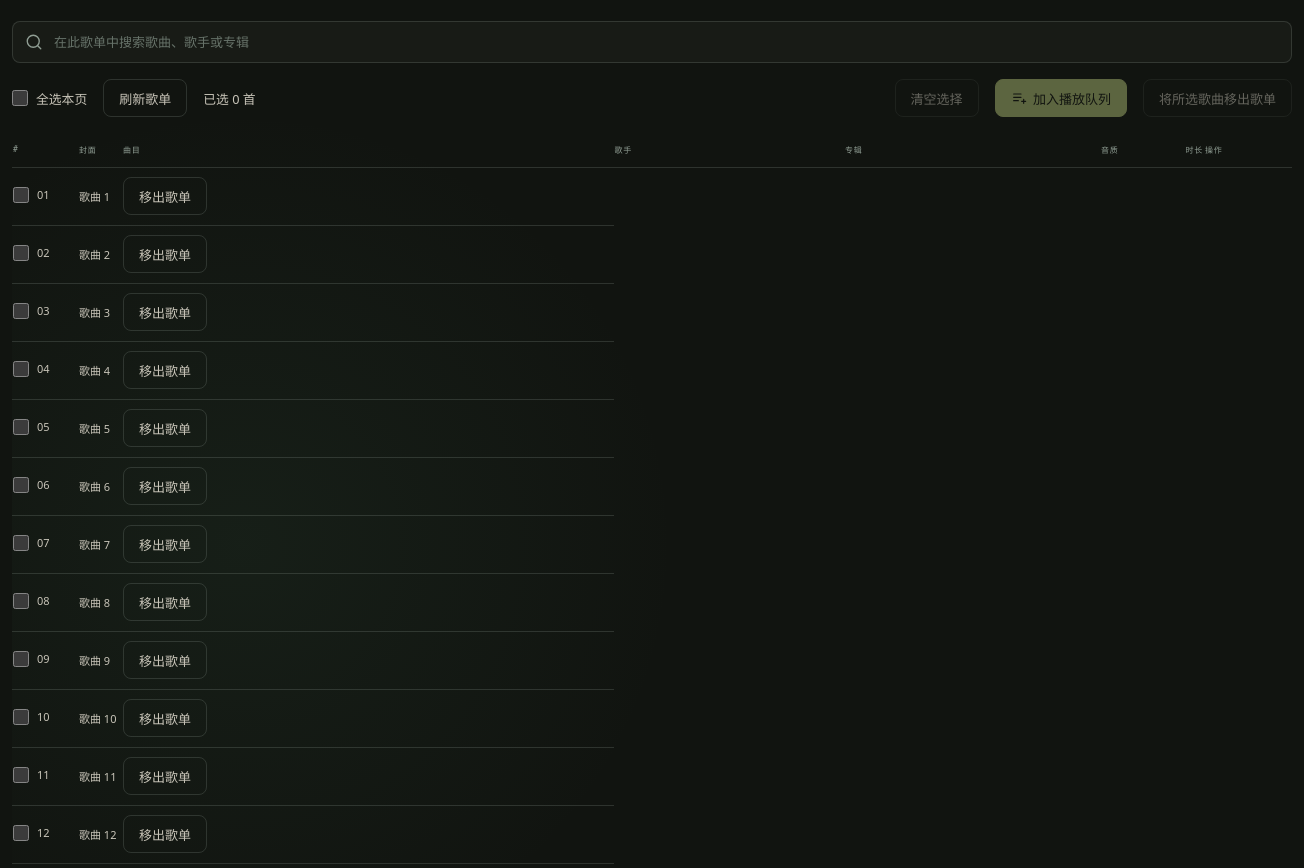
Test: playlist search and bulk queue selection › 确认前账号发生变化时不向新账号提交旧选择
Click the button with aria-label "将《歌曲 1》移出歌单" at point(165, 196), box [123,177,207,215]
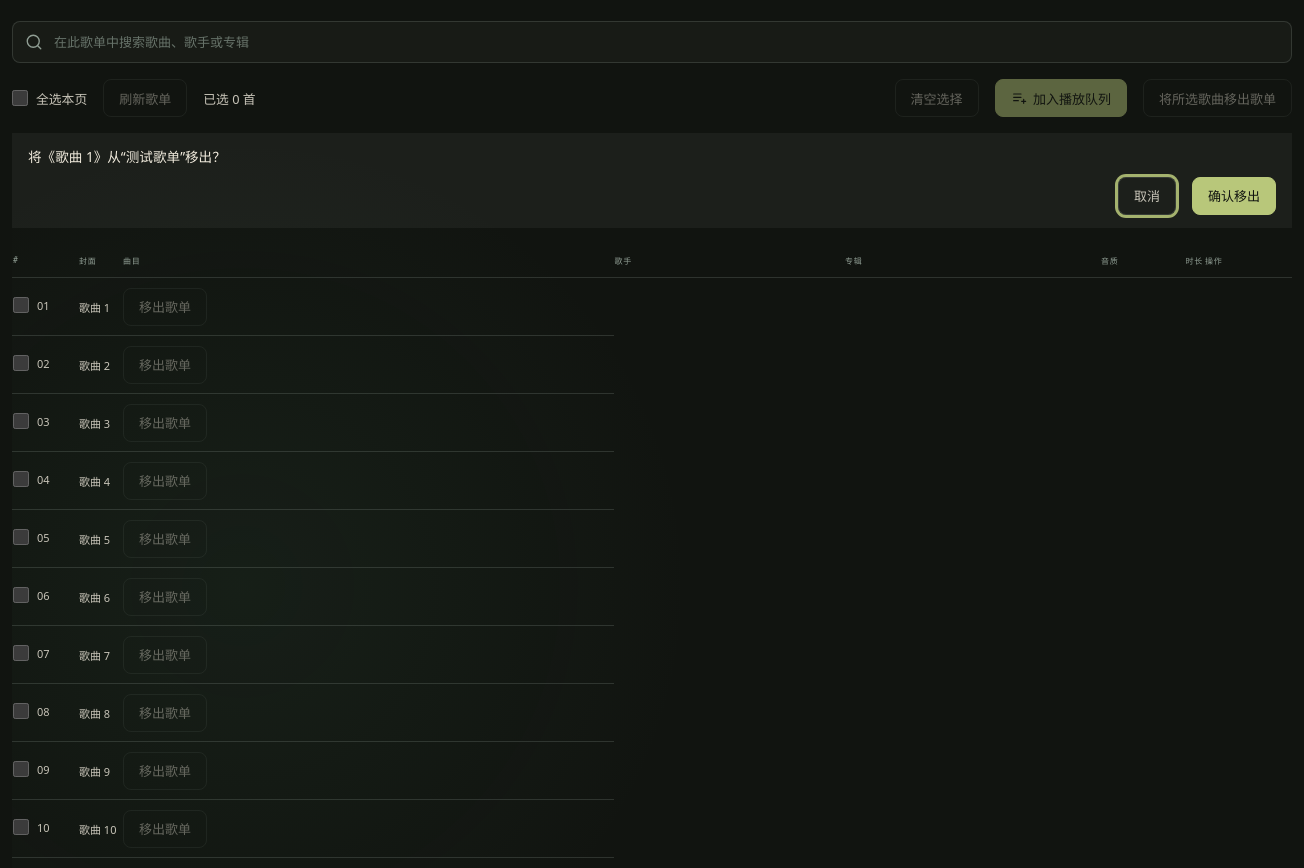
Click the button "确认移出" at point(1234, 196), box [1192,177,1276,215]
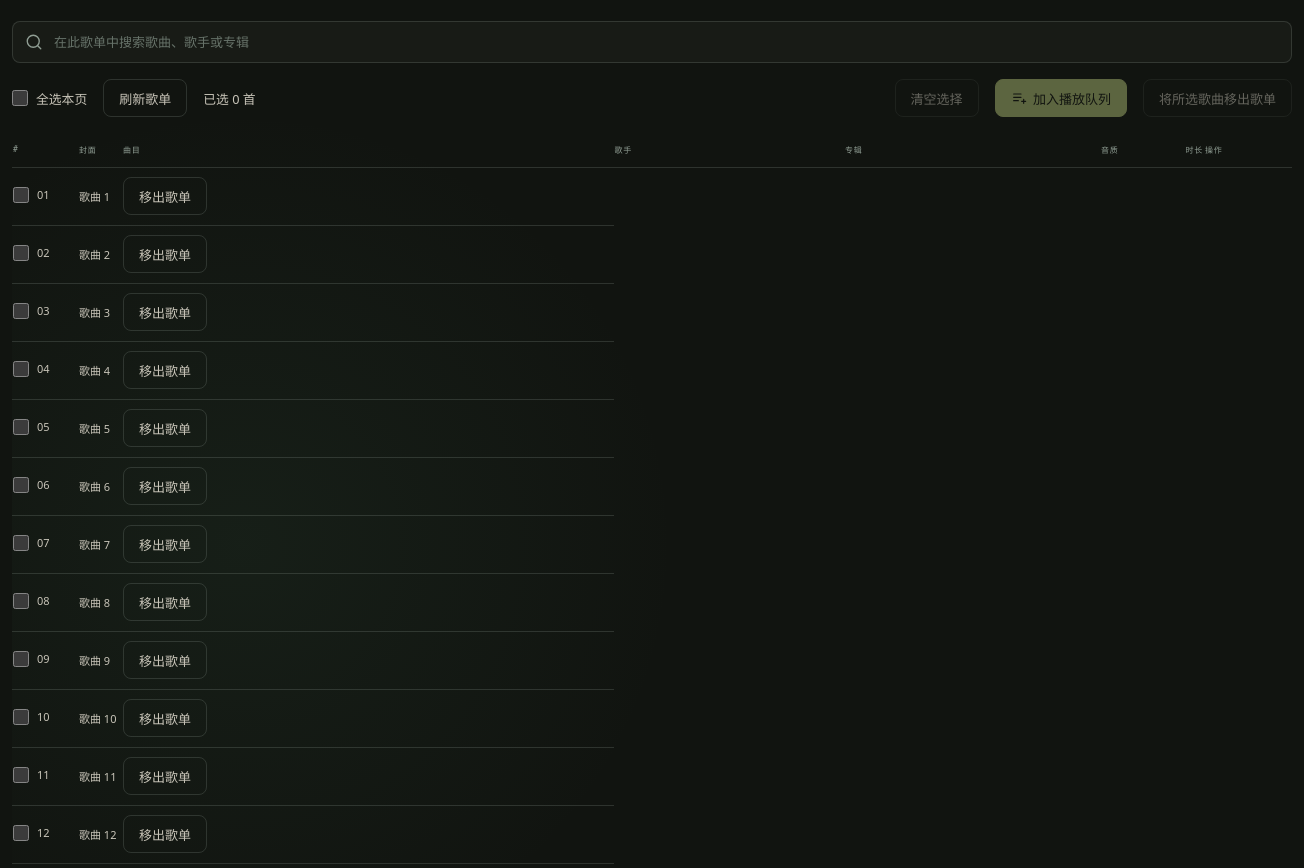
Expected: the element "确认移出歌单" is gone
